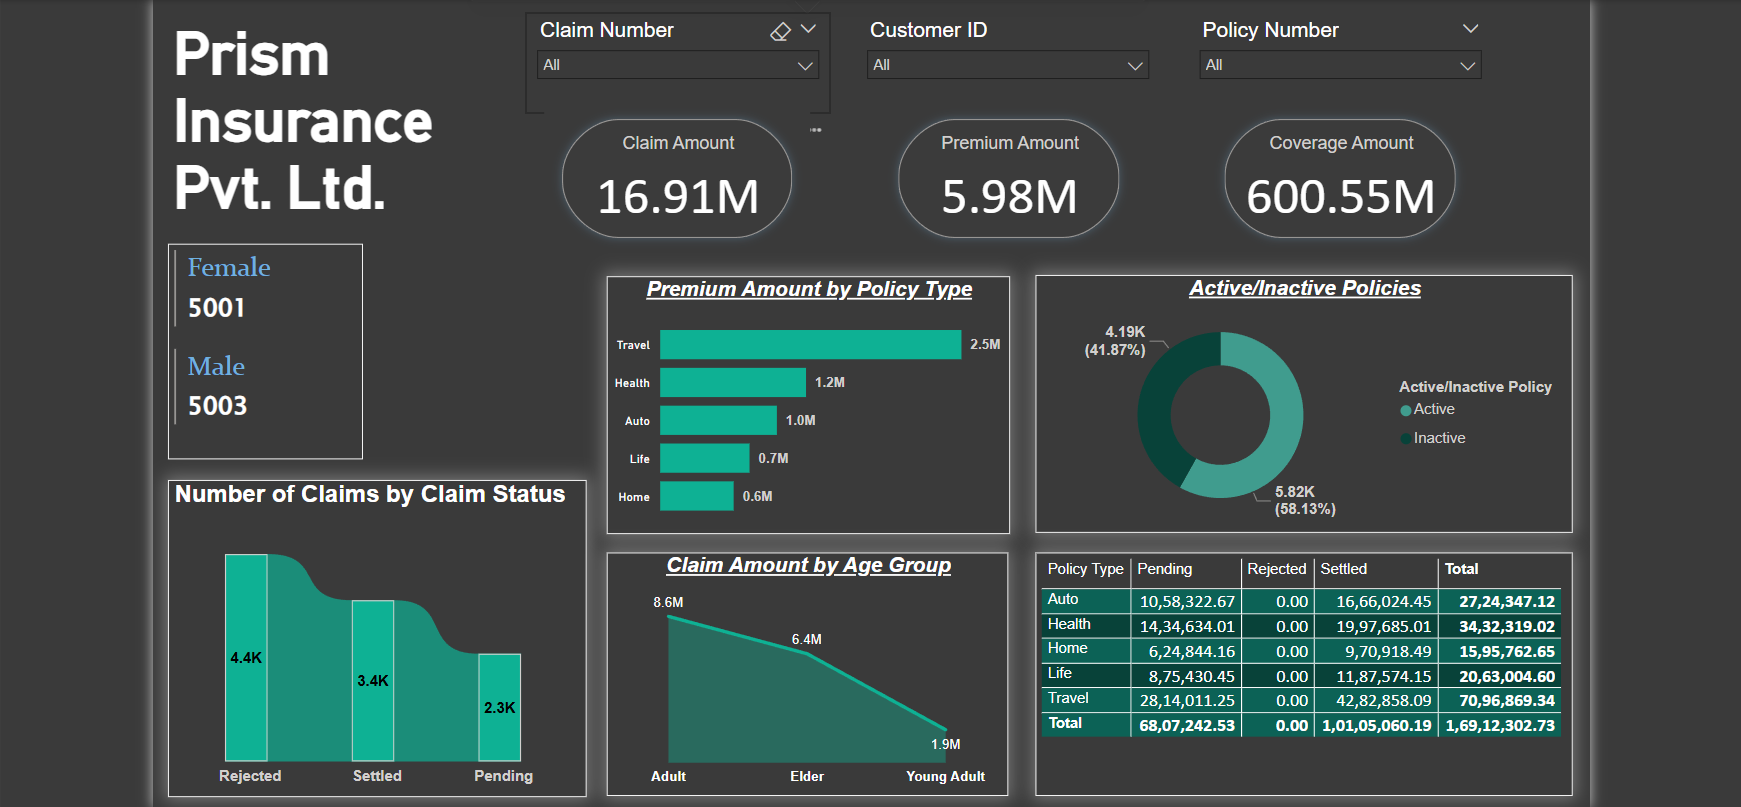

The page's visual inventory and layout, read from the dashboard file:
{"tool":"powerbi","page":{"name":"Page 1","canvas":[1280,720],"ordinal":0},"visuals":[{"type":"slicer","fields":{"Values":["InsuranceData.ClaimNumber"]},"box":[332.1,11,271.7,90.6],"z":0},{"type":"slicer","fields":{"Values":["InsuranceData.CustomerID"]},"box":[625.7,11,271.7,90.6],"z":1000},{"type":"slicer","fields":{"Values":["InsuranceData.PolicyNumber"]},"box":[922.1,11,271.7,90.6],"z":2000},{"type":"textbox","box":[13.7,11,284,234.6],"z":3000},{"type":"cardVisual","fields":{"Data":["Sum(InsuranceData.ClaimAmount)"]},"box":[348.7,89.7,237.2,138.5],"z":4000},{"type":"cardVisual","fields":{"Data":["Sum(InsuranceData.PremiumAmount)"]},"box":[647.4,89.7,229.5,138.5],"z":5000},{"type":"cardVisual","fields":{"Data":["Sum(InsuranceData.CoverageAmount)"]},"box":[938.5,89.7,238.5,138.5],"z":6000},{"type":"multiRowCard","fields":{"Values":["InsuranceData.Gender","CountNonNull(InsuranceData.Gender)"]},"box":[13.3,216.7,173.3,191.7],"z":7000},{"type":"ribbonChart","title":"Number of Claims by Claim Status","fields":{"Category":["InsuranceData.ClaimStatus"],"Y":["CountNonNull(InsuranceData.ClaimStatus)"]},"box":[12.8,426.9,373.1,282.1],"z":8000},{"type":"barChart","title":"Premium Amount by Policy Type","fields":{"Category":["InsuranceData.PolicyType"],"Y":["Sum(InsuranceData.PremiumAmount)"]},"box":[403.8,246.2,359,229.5],"z":9000},{"type":"areaChart","title":"Claim Amount by Age Group","fields":{"Y":["Sum(InsuranceData.ClaimAmount)"],"Category":["InsuranceData.Age Group"]},"box":[403.8,492.3,357.7,216.7],"z":10000},{"type":"donutChart","title":"Active/Inactive Policies","fields":{"Category":["InsuranceData.Active/Inactive Policy"],"Y":["CountNonNull(InsuranceData.Active/Inactive Policy)"]},"box":[785.9,244.9,478.2,229.5],"z":11000},{"type":"pivotTable","fields":{"Values":["Sum(InsuranceData.ClaimAmount)"],"Rows":["InsuranceData.PolicyType"],"Columns":["InsuranceData.ClaimStatus"]},"box":[785.9,492.3,478.2,216.7],"z":11001}]}

Visuals, with their boxes in screenshot pixels (x1, y1, x2, y2):
slicer - InsuranceData.ClaimNumber: pyautogui.locateOnScreen(526, 21, 826, 121)
slicer - InsuranceData.CustomerID: pyautogui.locateOnScreen(850, 21, 1151, 121)
slicer - InsuranceData.PolicyNumber: pyautogui.locateOnScreen(1178, 21, 1478, 121)
textbox: pyautogui.locateOnScreen(174, 21, 488, 281)
cardVisual - Sum(InsuranceData.ClaimAmount): pyautogui.locateOnScreen(544, 108, 806, 261)
cardVisual - Sum(InsuranceData.PremiumAmount): pyautogui.locateOnScreen(874, 108, 1128, 261)
cardVisual - Sum(InsuranceData.CoverageAmount): pyautogui.locateOnScreen(1196, 108, 1460, 261)
multiRowCard - InsuranceData.Gender x CountNonNull(InsuranceData.Gender): pyautogui.locateOnScreen(173, 249, 365, 461)
"Number of Claims by Claim Status" ribbonChart: pyautogui.locateOnScreen(173, 481, 585, 793)
"Premium Amount by Policy Type" barChart: pyautogui.locateOnScreen(605, 281, 1002, 535)
"Claim Amount by Age Group" areaChart: pyautogui.locateOnScreen(605, 553, 1000, 793)
"Active/Inactive Policies" donutChart: pyautogui.locateOnScreen(1027, 280, 1556, 533)
pivotTable - Sum(InsuranceData.ClaimAmount) x InsuranceData.PolicyType: pyautogui.locateOnScreen(1027, 553, 1556, 793)
